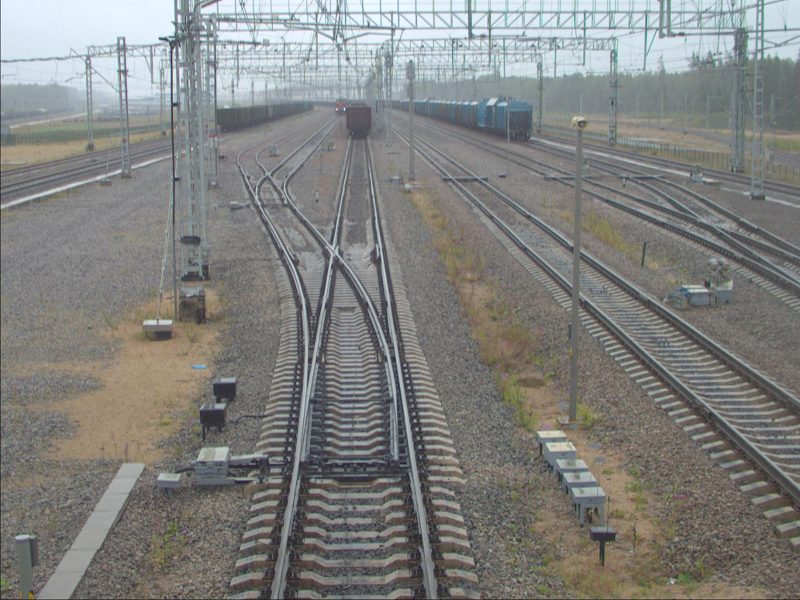right: (298, 249, 422, 469), (244, 173, 292, 206)
